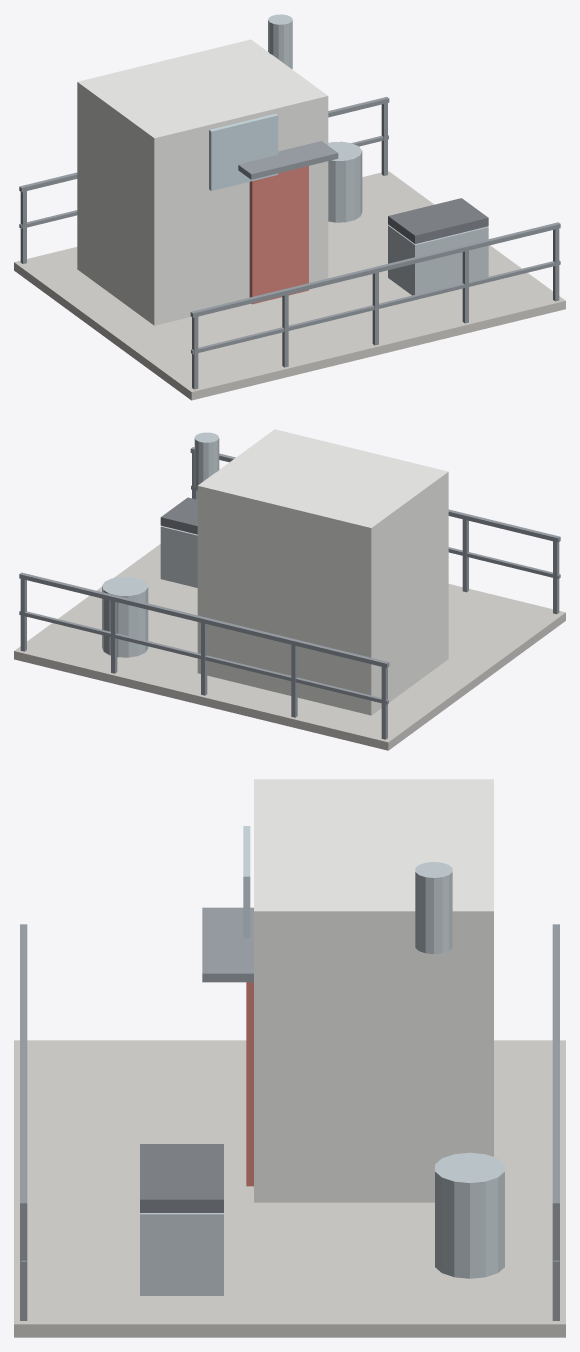
File: webtoon_rooftop_stairwell_entry.glb
The picture shows the model from 3 angles, top to bottom: view 1: azimuth 30°, elevation 25°; view 2: azimuth 150°, elevation 25°; view 3: azimuth 270°, elevation 25°; orthographic projection. The views are drawn at different scales.
Visible parts, largest first — view 1: stairwell block, rooftop slab, fire door, outdoor unit, stairwell window, railing post (×7), railing top rail (×2), unit fan grille, duct drum, railing mid rail (×2), door canopy, vent stack; view 2: stairwell block, rooftop slab, railing post (×7), railing top rail (×2), duct drum, railing mid rail (×2), outdoor unit, vent stack, unit fan grille; view 3: rooftop slab, stairwell block, duct drum, outdoor unit, unit fan grille, railing top rail (×2), door canopy, vent stack, railing post (×2), fire door, stairwell window.
Part boxes in pixels (x1,y1,x2,y2): stairwell block: [77, 39, 328, 325]; rooftop slab: [14, 171, 565, 400]; fire door: [249, 166, 308, 304]; outdoor unit: [388, 225, 488, 295]; stairwell window: [209, 113, 278, 190]; railing post (×7): [20, 100, 559, 389]; railing top rail (×2): [19, 97, 560, 317]; unit fan grille: [388, 198, 488, 243]; duct drum: [328, 141, 362, 222]; railing mid rail (×2): [19, 135, 560, 354]; door canopy: [238, 141, 338, 179]; vent stack: [268, 14, 292, 68]; stairwell block: [197, 429, 448, 715]; rooftop slab: [14, 544, 565, 750]; railing post (×7): [20, 516, 559, 739]; railing top rail (×2): [19, 447, 560, 667]; duct drum: [102, 576, 148, 657]; railing mid rail (×2): [19, 485, 560, 704]; outdoor unit: [160, 526, 197, 587]; vent stack: [194, 432, 219, 489]; unit fan grille: [160, 497, 197, 534]; rooftop slab: [14, 1040, 565, 1337]; stairwell block: [254, 779, 493, 1202]; duct drum: [435, 1152, 504, 1278]; outdoor unit: [140, 1213, 223, 1295]; unit fan grille: [140, 1144, 223, 1212]; railing top rail (×2): [20, 924, 559, 1209]; door canopy: [202, 907, 253, 982]; vent stack: [415, 862, 452, 954]; railing post (×2): [20, 1210, 559, 1320]; fire door: [246, 982, 253, 1186]; stairwell window: [243, 826, 250, 938].
Bounding box in the file's own units: 5.6 × 3.25 × 4.6.
